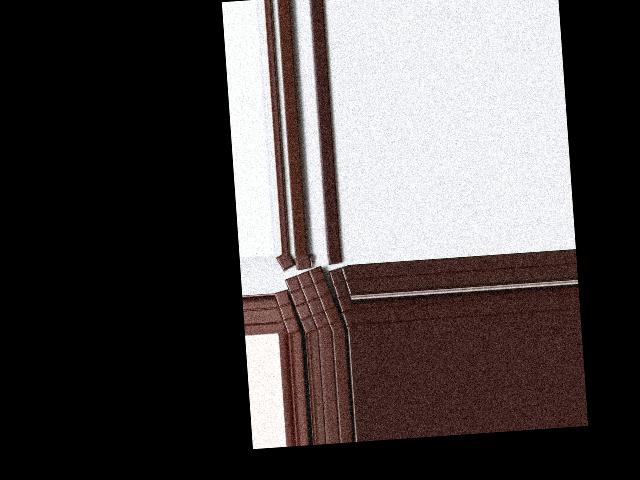chocolate: (283, 265, 343, 335)
